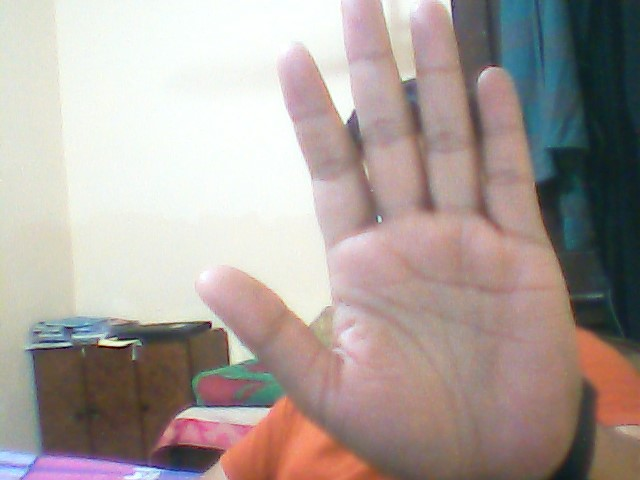Hello: (197, 1, 613, 478)
